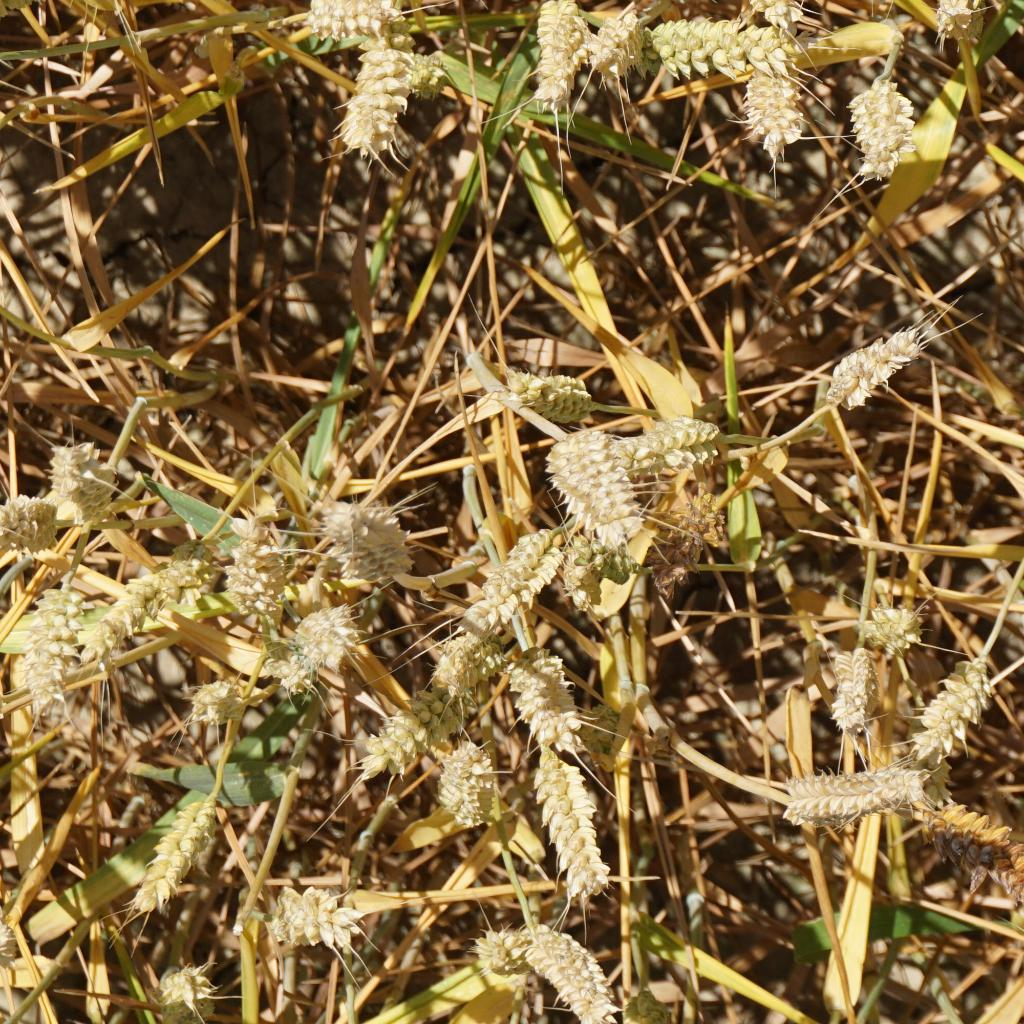0-0: (530, 751, 624, 900), (129, 772, 227, 900), (8, 571, 89, 725), (332, 38, 429, 161), (547, 412, 644, 534), (766, 751, 924, 819), (517, 923, 619, 1024), (624, 490, 723, 592), (638, 0, 780, 71), (93, 546, 186, 654), (822, 318, 930, 403), (904, 644, 992, 748), (507, 636, 585, 745), (234, 507, 301, 628), (843, 60, 917, 169), (627, 409, 732, 477), (731, 56, 807, 149), (516, 0, 581, 108), (52, 425, 124, 521), (361, 688, 446, 769), (554, 531, 638, 612), (274, 884, 367, 955), (325, 493, 405, 570), (180, 661, 250, 736), (143, 945, 220, 1011), (976, 822, 1024, 927), (439, 728, 492, 823), (436, 588, 523, 644), (473, 914, 534, 992), (579, 0, 643, 73), (418, 628, 496, 687), (504, 358, 590, 411), (830, 644, 880, 735), (483, 519, 546, 591), (295, 598, 362, 665), (927, 797, 994, 860), (0, 480, 59, 546), (861, 597, 924, 654), (259, 635, 314, 696), (401, 47, 454, 104), (300, 0, 385, 35), (722, 0, 816, 31), (0, 892, 32, 975), (931, 0, 989, 42), (0, 0, 41, 21)
